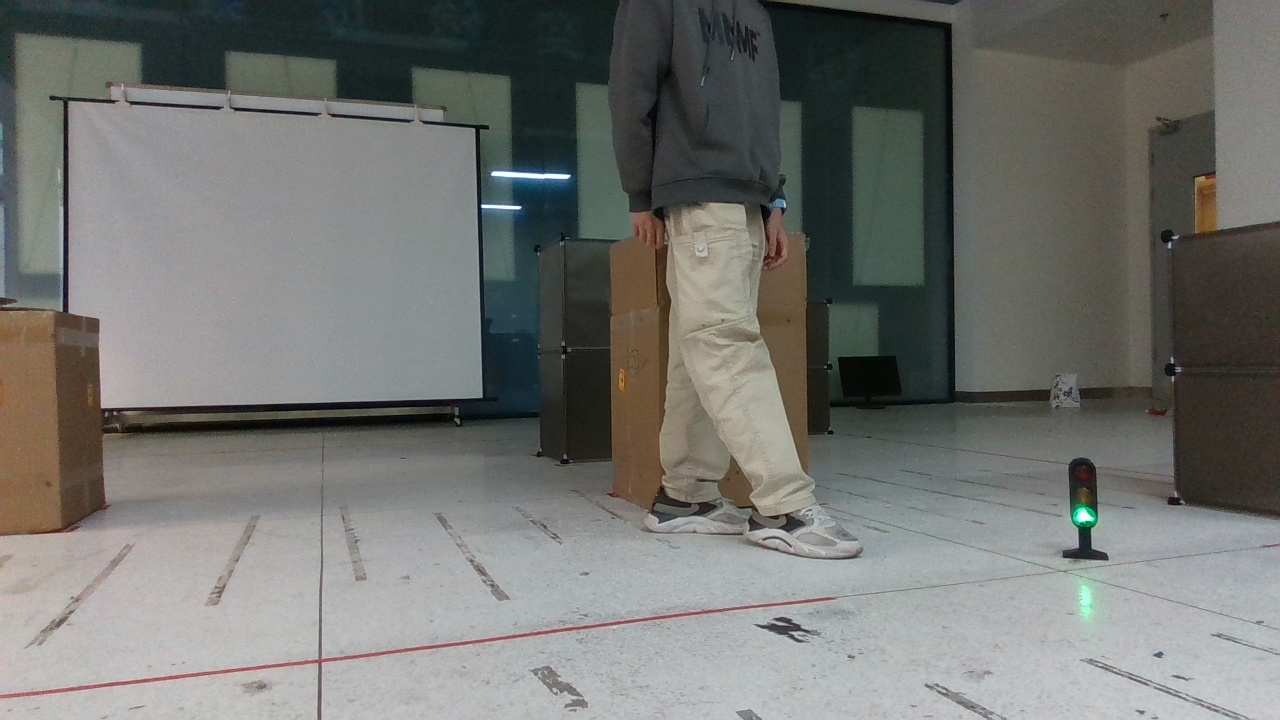green_light: (1053, 449, 1121, 566)
